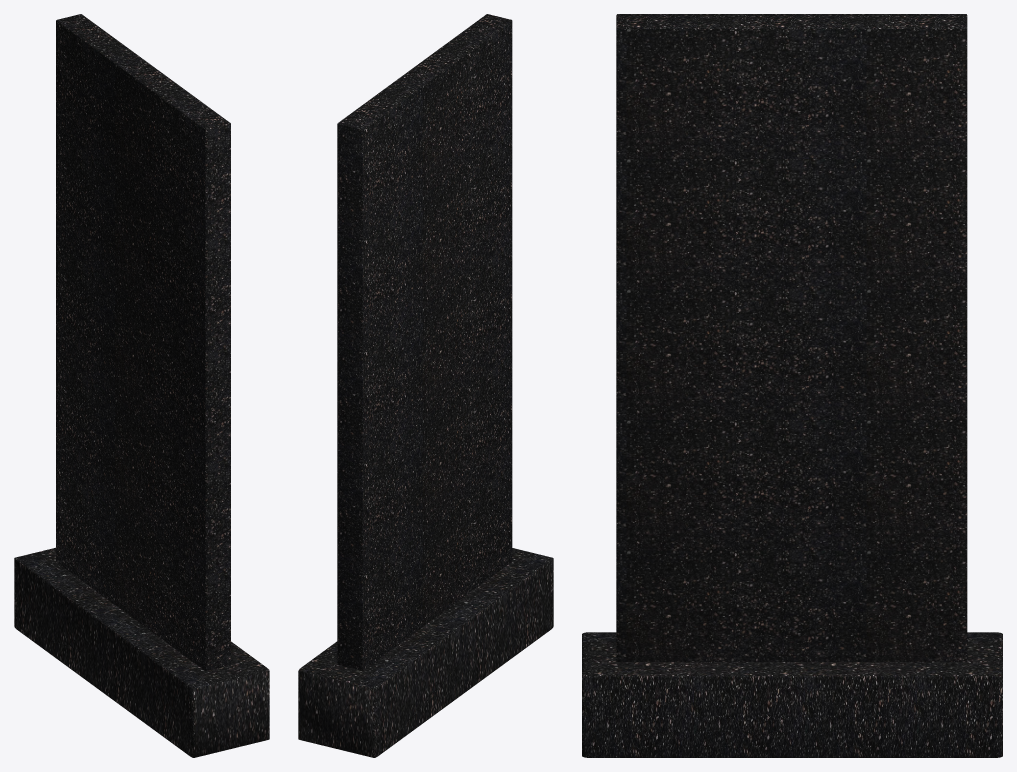
File: Прямой [granite_1_standard] (100).glb
3 renders of one model, left to right at view 1: azimuth 30°, elevation 25°; view 2: azimuth 150°, elevation 25°; view 3: azimuth 270°, elevation 25°, orthographic. The views are drawn at different scales.
Parts seen in each view (by area): view 1: Cube.029, Куб.004; view 2: Cube.029, Куб.004; view 3: Cube.029, Куб.004.
Boxes of the visible parts, <box> form: Cube.029: <box>56,14,230,670</box>; Куб.004: <box>14,547,269,757</box>; Cube.029: <box>337,14,512,670</box>; Куб.004: <box>298,548,553,757</box>; Cube.029: <box>616,14,967,661</box>; Куб.004: <box>582,632,1002,757</box>.
Size of the model in its own units: 0.15 by 1.13 by 0.6.
Materials: 2 (2 with a texture image).
